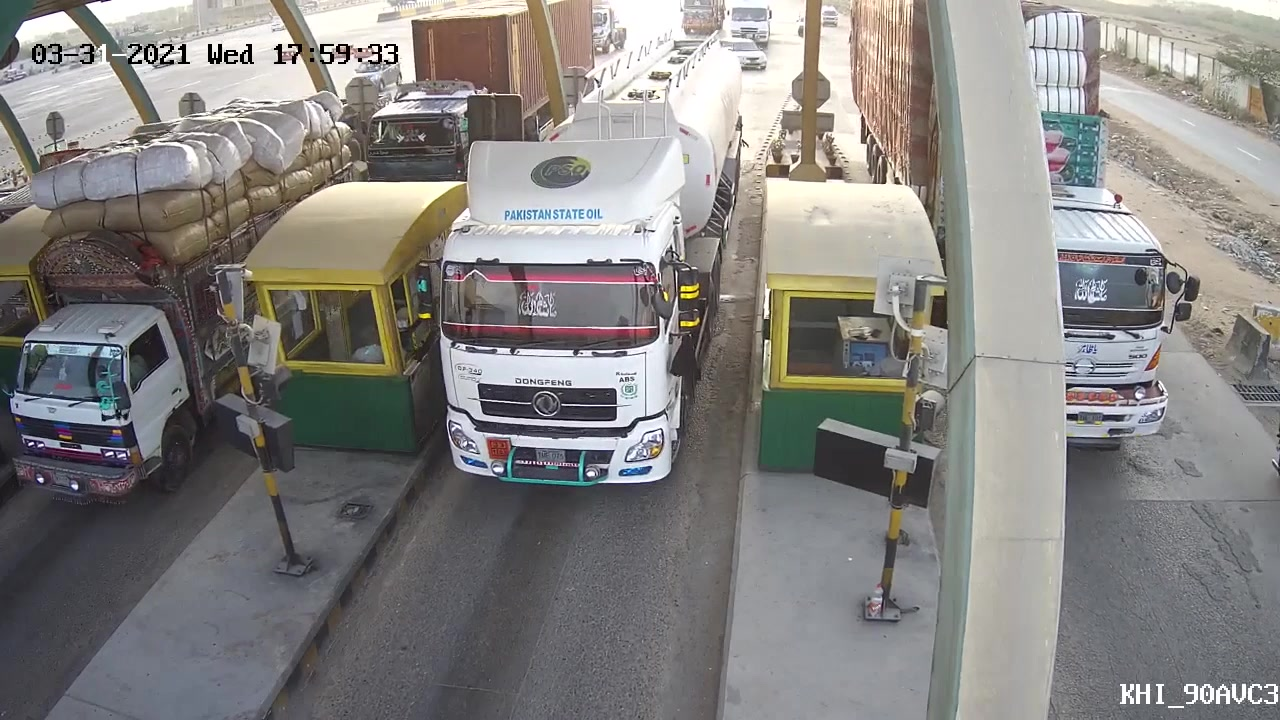F6: (423, 40, 750, 495)
